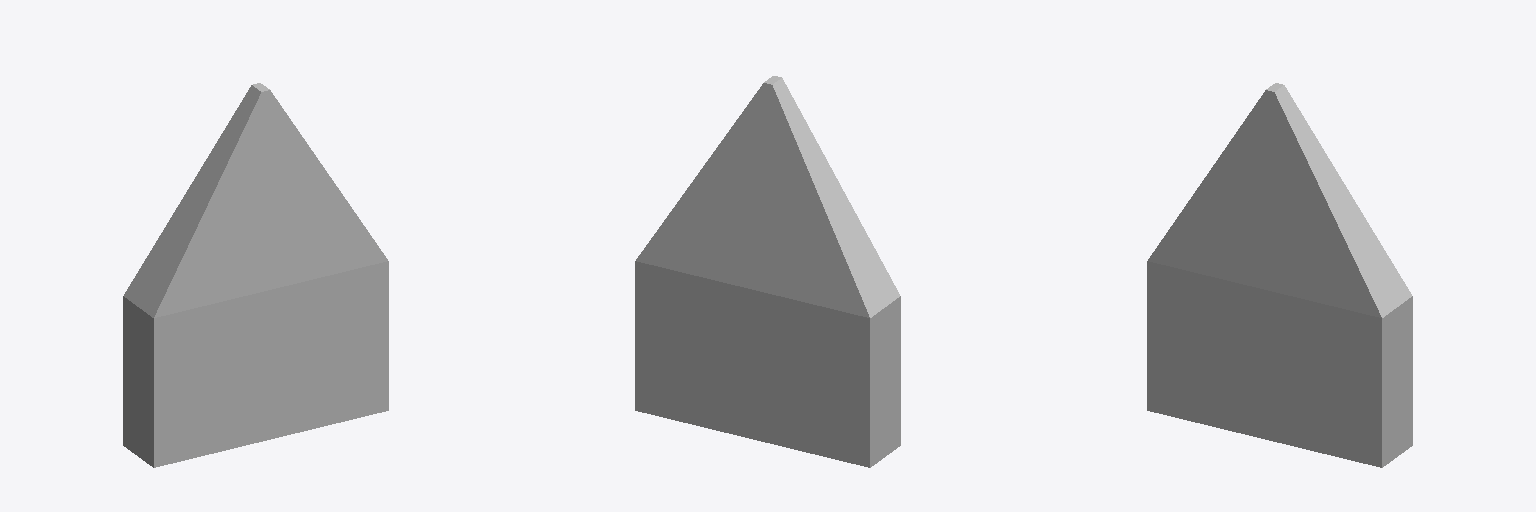
Rendered from aleste-collider-2.obj.
The picture shows the model from 3 angles: view 1: azimuth 30°, elevation 25°; view 2: azimuth 150°, elevation 25°; view 3: azimuth 330°, elevation 25°; orthographic projection.
Visible parts, largest first — view 1: FighterCollider_Cube; view 2: FighterCollider_Cube; view 3: FighterCollider_Cube.
Part boxes in pixels (x1,y1,x2,y2): FighterCollider_Cube: (123, 83, 388, 467); FighterCollider_Cube: (635, 76, 900, 467); FighterCollider_Cube: (1147, 83, 1412, 467).
Size of the model in its own units: 2.83 by 3.96 by 0.6356.